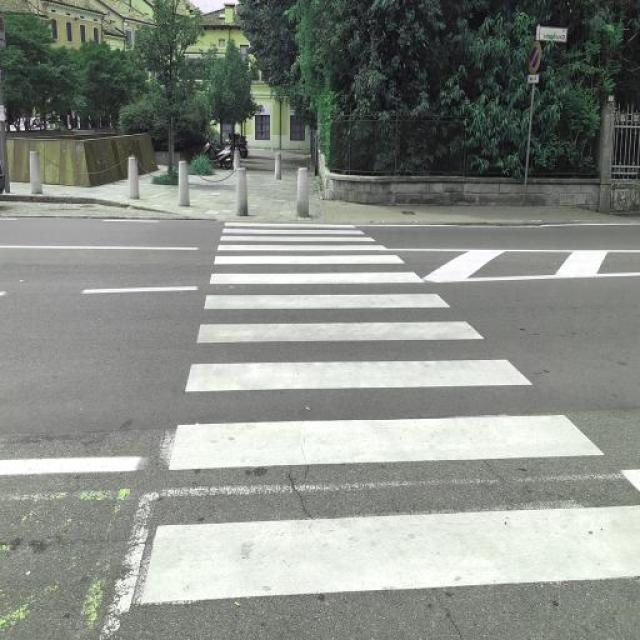crosswalk: (140, 219, 639, 608)
